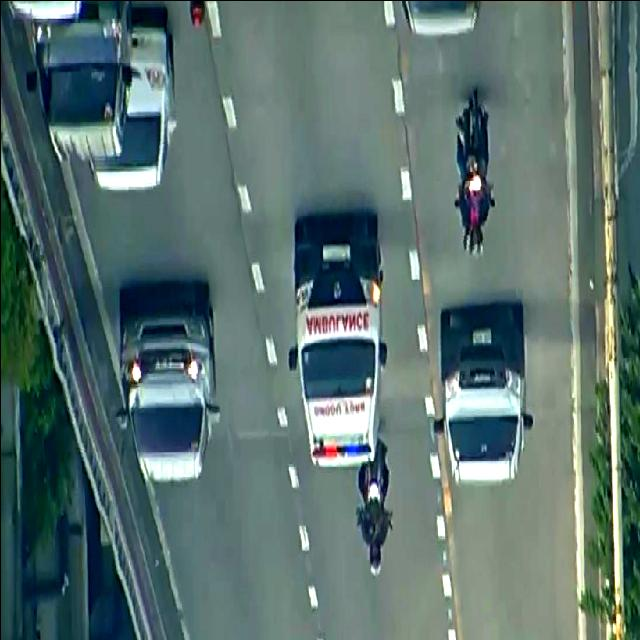emergency: (282, 197, 394, 473)
